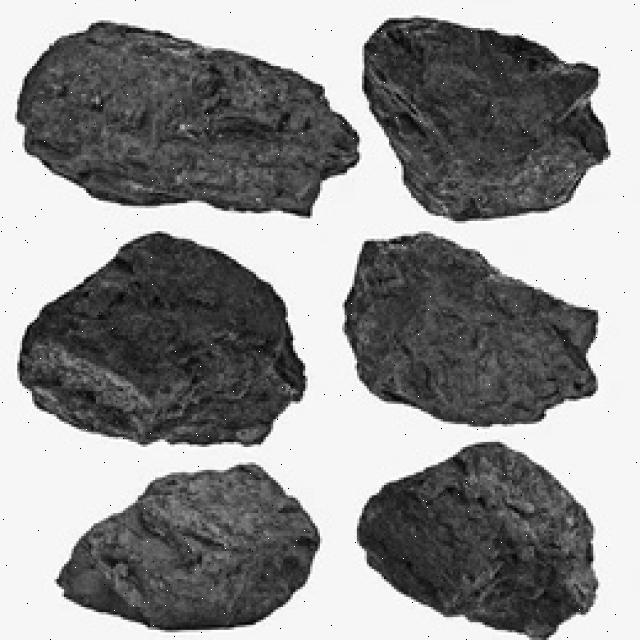Sedimentary: (10, 20, 362, 226), (20, 236, 325, 452), (342, 437, 628, 640), (328, 234, 620, 432), (345, 13, 613, 226), (54, 462, 320, 640)
